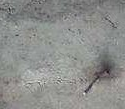Exposed reinforcement: (83, 75, 100, 95)
